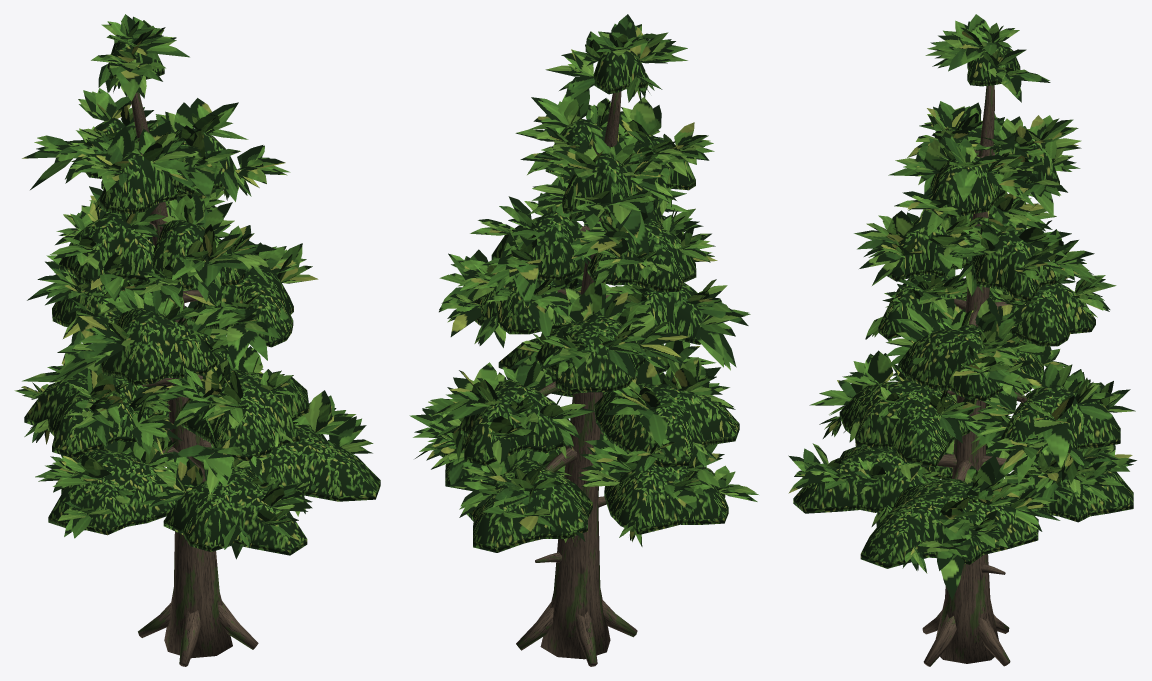
Rendered from Canopy_Tree_B.glb.
The picture shows the model from 3 angles, left to right: view 1: azimuth 30°, elevation 25°; view 2: azimuth 150°, elevation 25°; view 3: azimuth 270°, elevation 25°; orthographic projection. The views are drawn at different scales.
Visible parts, largest first — view 1: Canopy_Tree_B__Leaves_Detail, Canopy_Tree_B__Leaves_Mass, Canopy_Tree_B__Bark; view 2: Canopy_Tree_B__Leaves_Detail, Canopy_Tree_B__Leaves_Mass, Canopy_Tree_B__Bark; view 3: Canopy_Tree_B__Leaves_Detail, Canopy_Tree_B__Leaves_Mass, Canopy_Tree_B__Bark.
Part boxes in pixels (x1,y1,x2,y2): Canopy_Tree_B__Leaves_Detail: (14, 14, 373, 559); Canopy_Tree_B__Leaves_Mass: (24, 35, 380, 555); Canopy_Tree_B__Bark: (131, 92, 258, 666); Canopy_Tree_B__Leaves_Detail: (409, 14, 758, 546); Canopy_Tree_B__Leaves_Mass: (440, 47, 739, 552); Canopy_Tree_B__Bark: (516, 91, 637, 666); Canopy_Tree_B__Leaves_Detail: (788, 14, 1136, 600); Canopy_Tree_B__Leaves_Mass: (793, 42, 1133, 568); Canopy_Tree_B__Bark: (922, 85, 1027, 666).
Size of the model in its own units: 31.83 by 58.6 by 30.79.
2 materials, 2 textured.
